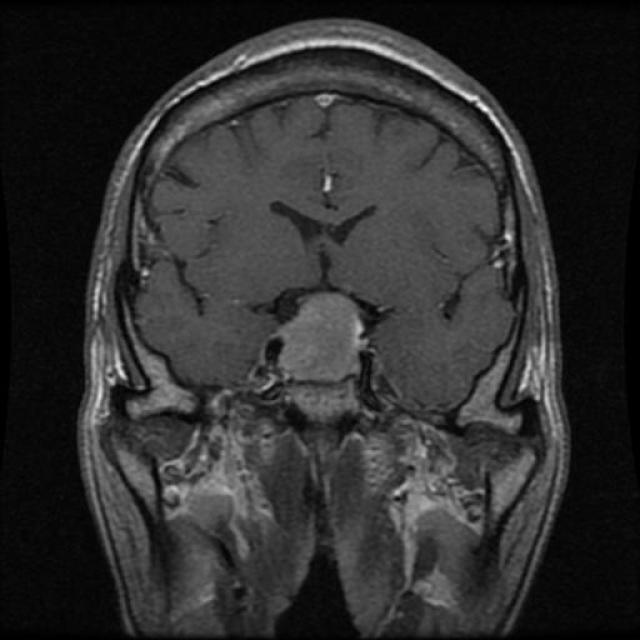pituitary: (272, 292, 373, 421)
